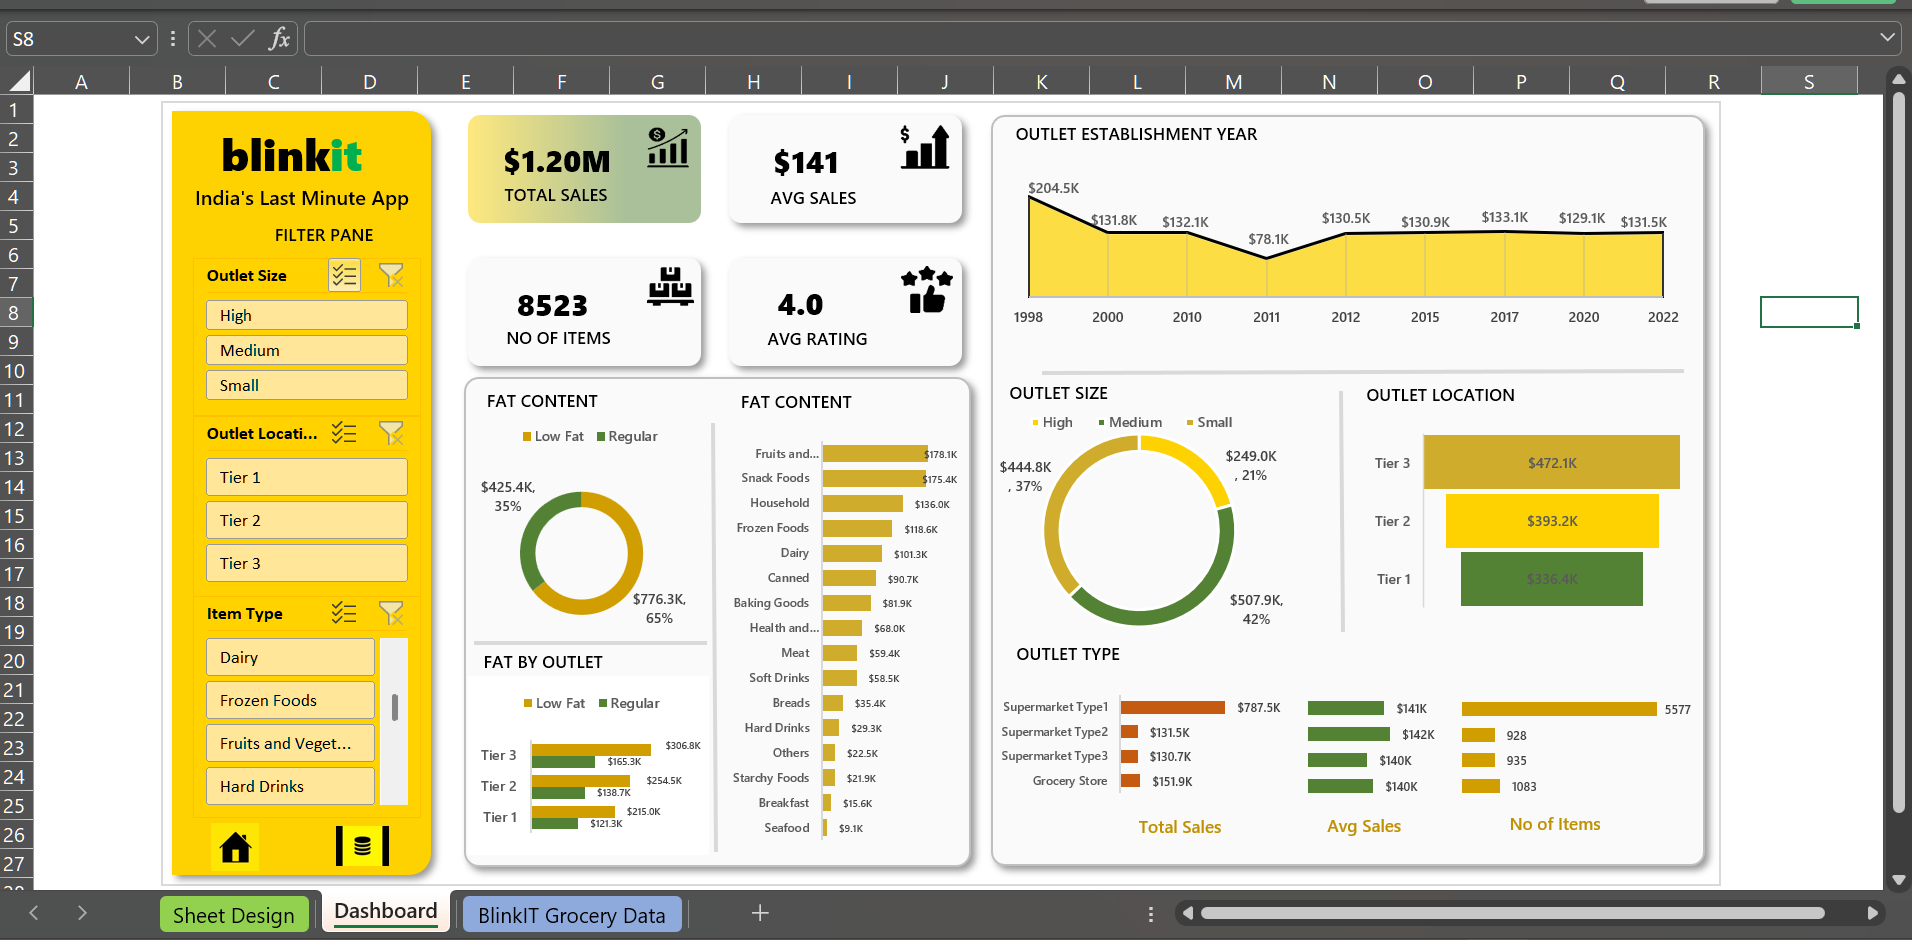

The page's visual inventory and layout, read from the dashboard file:
{"tool":"powerbi","page":{"name":"Home","canvas":[1280,720],"ordinal":0},"visuals":[{"type":"shape","box":[10.6,29.2,213.6,682],"z":0},{"type":"textbox","box":[19.9,38.5,192.4,91.5],"z":1000},{"type":"cardVisual","fields":{"Data":["BlinkIT Grocery Data.TOTAL SALES","BlinkIT Grocery Data.AVG SALES","BlinkIT Grocery Data.NO OF ITEMS","BlinkIT Grocery Data.AVG RATING"]},"box":[234.8,29.2,457.7,226.9],"z":2000},{"type":"image","box":[400,48,42.5,30.5],"z":3000},{"type":"image","box":[630,48,42.5,30.5],"z":4000},{"type":"image","box":[400,165,42.5,30],"z":5000},{"type":"image","box":[630,167.2,42.5,30.5],"z":6000},{"type":"image","box":[400,93,42.5,30.5],"z":7000},{"type":"image","box":[400,207,42.5,30.5],"z":8000},{"type":"image","box":[630,207,42.5,30.5],"z":9000},{"type":"image","box":[630,93,42.5,30.5],"z":10000},{"type":"shape","box":[234.8,245.5,457.7,465.7],"z":11000},{"type":"slicer","fields":{"Values":["Parameter.Parameter"]},"box":[234.8,256.1,448.5,45.1],"z":12000},{"type":"donutChart","title":"Fat Content","fields":{"Y":["BlinkIT Grocery Data.TOTAL SALES"],"Category":["BlinkIT Grocery Data.Item Fat Content"]},"box":[245,335.7,218.9,164.5],"z":13000},{"type":"cardVisual","fields":{"Data":["BlinkIT Grocery Data.TOTAL SALES"]},"box":[315,408.7,79.6,42.5],"z":14000},{"type":"clusteredBarChart","fields":{"Y":["BlinkIT Grocery Data.TOTAL SALES"],"Category":["BlinkIT Grocery Data.Outlet Location Type"],"Series":["BlinkIT Grocery Data.Item Fat Content"]},"box":[245,540,218.9,159],"z":15000},{"type":"textbox","box":[245,305.8,126.8,29.8],"z":16000},{"type":"textbox","box":[245,510,132.7,30],"z":17000},{"type":"shape","box":[245,497.6,217.6,17.2],"z":18000},{"type":"shape","box":[245,325.1,433.9,17.2],"z":19000},{"type":"shape","box":[455,342.3,19.9,355],"z":20000},{"type":"clusteredBarChart","fields":{"Y":["BlinkIT Grocery Data.TOTAL SALES"],"Category":["BlinkIT Grocery Data.Item Type"]},"box":[473.7,342.3,205,355],"z":21000},{"type":"textbox","box":[473.7,305.2,127.4,30],"z":22000},{"type":"shape","box":[683.3,29.2,590.4,682],"z":23000},{"type":"areaChart","title":"Outlet Establishment","fields":{"Y":["BlinkIT Grocery Data.TOTAL SALES"],"Category":["BlinkIT Grocery Data.Outlet Establishment Year"]},"box":[692.6,45.1,569.2,200.3],"z":24000},{"type":"shape","box":[692.6,240.2,569.2,17.2],"z":25000},{"type":"donutChart","fields":{"Y":["BlinkIT Grocery Data.TOTAL SALES"],"Category":["BlinkIT Grocery Data.Outlet Size"]},"box":[700.6,301.2,269.3,196.4],"z":26000},{"type":"funnel","fields":{"Category":["BlinkIT Grocery Data.Outlet Location Type"],"Y":["BlinkIT Grocery Data.TOTAL SALES"]},"box":[980.5,301.2,269.3,196.4],"z":27000},{"type":"shape","box":[965,305.8,19.4,175],"z":28000},{"type":"textbox","box":[700,258.1,110,29.8],"z":29000},{"type":"textbox","box":[980,258.1,145,29.8],"z":30000},{"type":"shape","box":[692.6,500,569.2,15.9],"z":31000},{"type":"textbox","box":[700,518,111,30],"z":32000},{"type":"tableEx","fields":{"Values":["BlinkIT Grocery Data.Outlet Type","BlinkIT Grocery Data.TOTAL SALES","BlinkIT Grocery Data.NO OF ITEMS","BlinkIT Grocery Data.AVG SALES","BlinkIT Grocery Data.AVG RATING","Avg(BlinkIT Grocery Data.Item Visibility)"]},"box":[700.6,552,563.9,151.3],"z":33000},{"type":"shape","box":[693.9,540,569.2,15.9],"z":34000},{"type":"image","box":[32.9,177.1,50,35],"z":35000},{"type":"textbox","box":[82.9,177.1,130,35],"z":36000},{"type":"slicer","fields":{"Values":["BlinkIT Grocery Data.Outlet Location Type"]},"box":[32.9,234.3,170,68],"z":37000},{"type":"slicer","fields":{"Values":["BlinkIT Grocery Data.Outlet Size"]},"box":[34.3,321.4,168.6,58.6],"z":38000},{"type":"slicer","fields":{"Values":["BlinkIT Grocery Data.Item Type"]},"box":[34.2,400,169.7,68.4],"z":39000},{"type":"image","box":[94.7,490.8,42.1,30.3],"z":39001},{"type":"image","box":[94.7,532.9,42.1,30.3],"z":39002},{"type":"image","box":[94,572.4,45,35.5],"z":39003},{"type":"image","box":[94,619.7,50,39.5],"z":39004}]}

Visuals, with their boxes on the page's 1280x720 design canvas (x1, y1, x2, y2). These are canvas units, not pixel positions in the 1912x940 screenshot, which may show the page scaled, cropped or inside an application window:
shape: [11, 29, 224, 711]
textbox: [20, 38, 212, 130]
cardVisual - BlinkIT Grocery Data.TOTAL SALES x BlinkIT Grocery Data.AVG SALES: [235, 29, 692, 256]
image: [400, 48, 442, 78]
image: [630, 48, 672, 78]
image: [400, 165, 442, 195]
image: [630, 167, 672, 198]
image: [400, 93, 442, 124]
image: [400, 207, 442, 238]
image: [630, 207, 672, 238]
image: [630, 93, 672, 124]
shape: [235, 246, 692, 711]
slicer - Parameter.Parameter: [235, 256, 683, 301]
"Fat Content" donutChart: [245, 336, 464, 500]
cardVisual - BlinkIT Grocery Data.TOTAL SALES: [315, 409, 395, 451]
clusteredBarChart - BlinkIT Grocery Data.TOTAL SALES x BlinkIT Grocery Data.Outlet Location Type: [245, 540, 464, 699]
textbox: [245, 306, 372, 336]
textbox: [245, 510, 378, 540]
shape: [245, 498, 463, 515]
shape: [245, 325, 679, 342]
shape: [455, 342, 475, 697]
clusteredBarChart - BlinkIT Grocery Data.TOTAL SALES x BlinkIT Grocery Data.Item Type: [474, 342, 679, 697]
textbox: [474, 305, 601, 335]
shape: [683, 29, 1274, 711]
"Outlet Establishment" areaChart: [693, 45, 1262, 245]
shape: [693, 240, 1262, 257]
donutChart - BlinkIT Grocery Data.TOTAL SALES x BlinkIT Grocery Data.Outlet Size: [701, 301, 970, 498]
funnel - BlinkIT Grocery Data.Outlet Location Type x BlinkIT Grocery Data.TOTAL SALES: [980, 301, 1250, 498]
shape: [965, 306, 984, 481]
textbox: [700, 258, 810, 288]
textbox: [980, 258, 1125, 288]
shape: [693, 500, 1262, 516]
textbox: [700, 518, 811, 548]
tableEx - BlinkIT Grocery Data.Outlet Type x BlinkIT Grocery Data.TOTAL SALES: [701, 552, 1264, 703]
shape: [694, 540, 1263, 556]
image: [33, 177, 83, 212]
textbox: [83, 177, 213, 212]
slicer - BlinkIT Grocery Data.Outlet Location Type: [33, 234, 203, 302]
slicer - BlinkIT Grocery Data.Outlet Size: [34, 321, 203, 380]
slicer - BlinkIT Grocery Data.Item Type: [34, 400, 204, 468]
image: [95, 491, 137, 521]
image: [95, 533, 137, 563]
image: [94, 572, 139, 608]
image: [94, 620, 144, 659]
